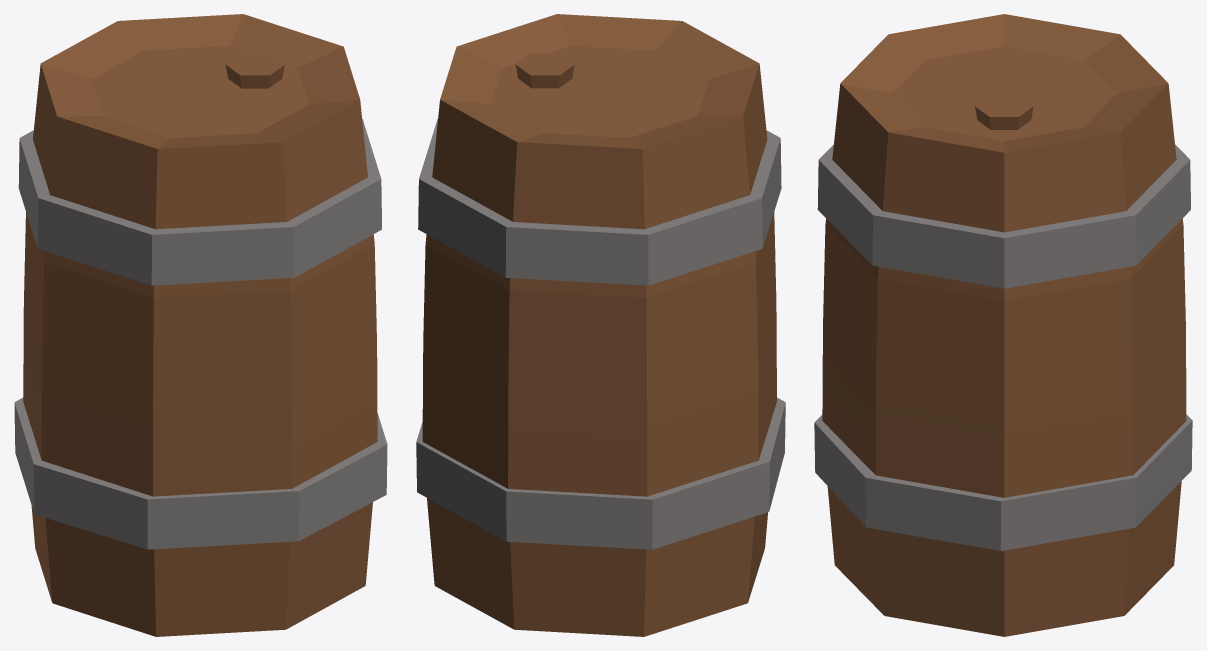
The model's file is western_barrel-old.fbx.
3 renders of one model, left to right at view 1: azimuth 30°, elevation 25°; view 2: azimuth 150°, elevation 25°; view 3: azimuth 270°, elevation 25°, orthographic.
Parts seen in each view (by area): view 1: western_barrel_old; view 2: western_barrel_old; view 3: western_barrel_old.
Part boxes in pixels (bbox=[...]): western_barrel_old: bbox=[14, 14, 387, 636]; western_barrel_old: bbox=[416, 14, 785, 636]; western_barrel_old: bbox=[814, 14, 1192, 636].
Size of the model in its own units: 143 by 200 by 141.
